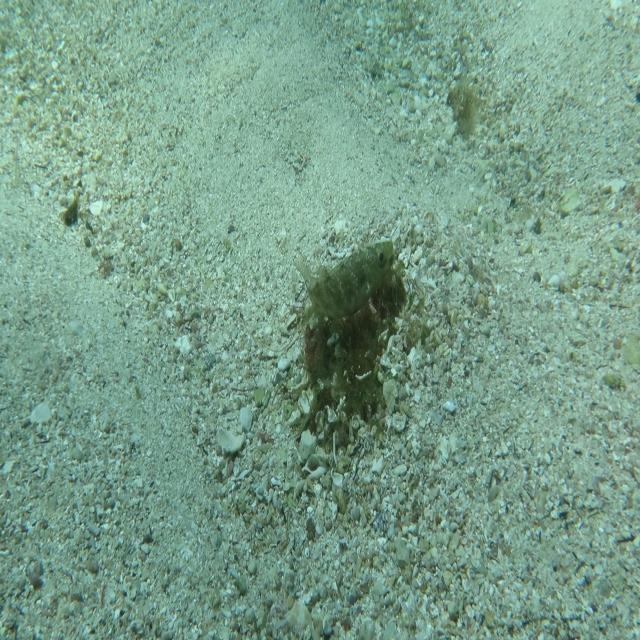FAN: (292, 240, 394, 321)
core_nest: (360, 285, 396, 324)
nest: (277, 241, 408, 449)
vegetation: (447, 73, 477, 140), (59, 196, 81, 228)
